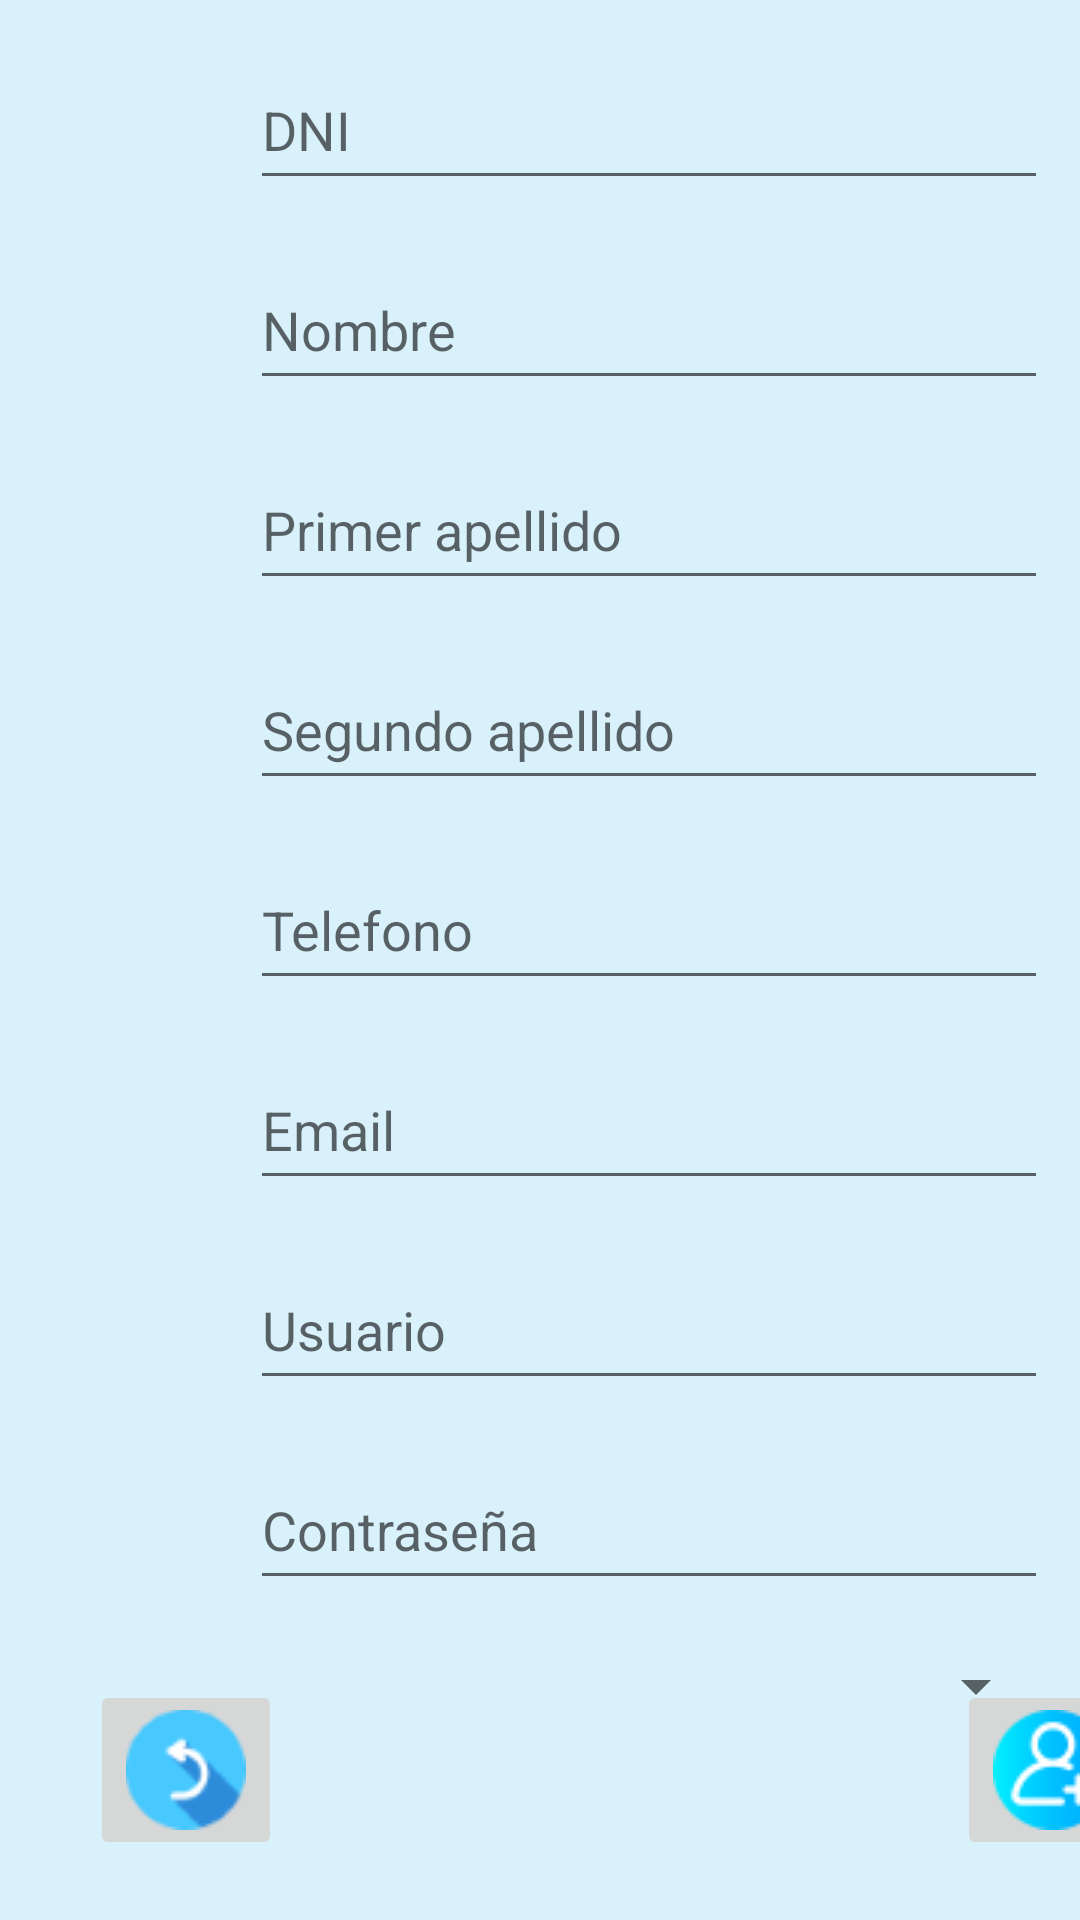

Screen size 1080 × 1920. Icon name, then its box in pixels as bbox=(x1, y1, x2, y2):
flecha hacia atras: bbox=(102, 1698, 270, 1842)
